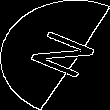N_SE: (13, 25, 97, 85)
